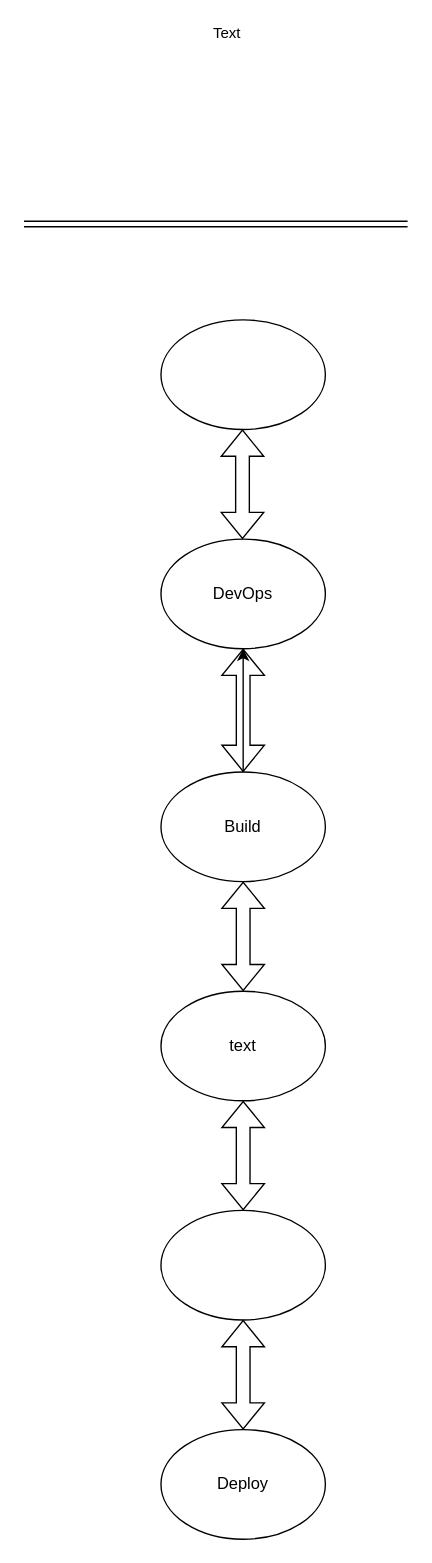
Image size: 432x1563. Some labels were removed from this diagram. The centre of each missing label's shape, as x and y in pixels:
plan: point (242, 374)
relese: point (242, 1264)
